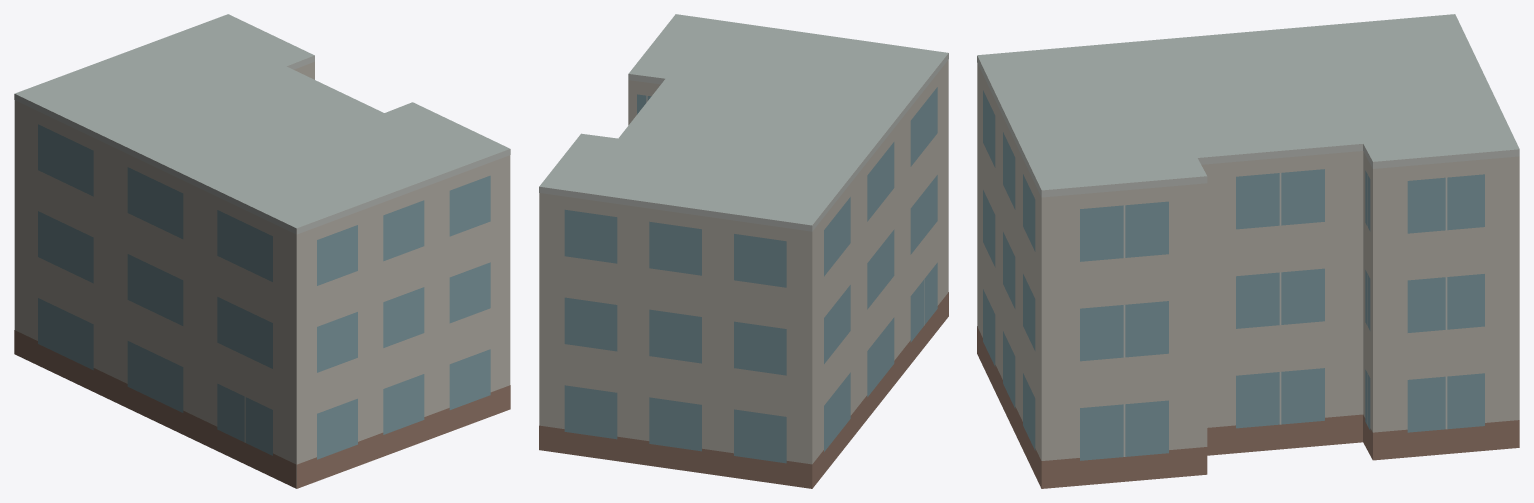
The model's file is survey-upis-32497981.glb.
The picture shows the model from 3 angles, left to right: view 1: azimuth 30°, elevation 25°; view 2: azimuth 150°, elevation 25°; view 3: azimuth 270°, elevation 25°; orthographic projection. The views are drawn at different scales.
Visible parts, largest first — view 1: survey-upis-32497981.tmp; view 2: survey-upis-32497981.tmp; view 3: survey-upis-32497981.tmp.
Boxes of the visible parts, x1=… form: survey-upis-32497981.tmp: x1=14, y1=14, x2=510, y2=488; survey-upis-32497981.tmp: x1=539, y1=14, x2=948, y2=488; survey-upis-32497981.tmp: x1=977, y1=14, x2=1519, y2=488.
Size of the model in its own units: 12.98 by 10.23 by 16.87.
